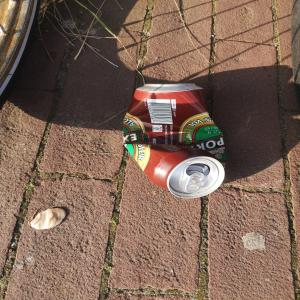Can: (123, 83, 231, 201)
